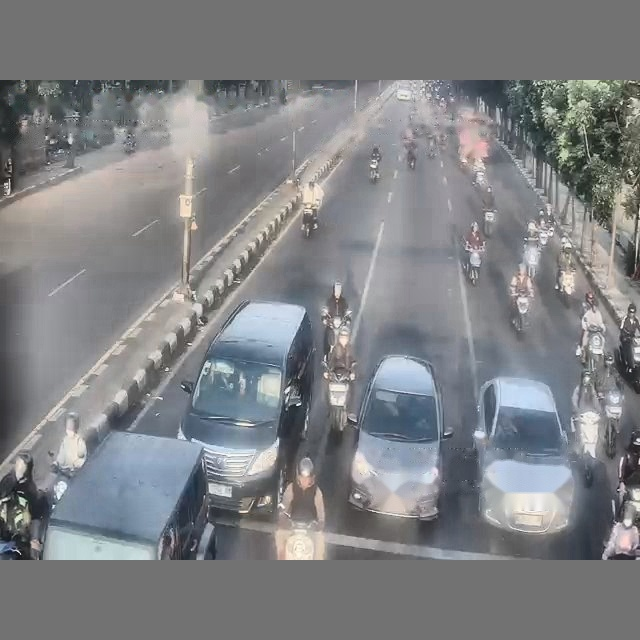Mobil: (178, 301, 314, 513), (43, 432, 215, 559), (348, 355, 452, 520), (473, 377, 574, 535), (396, 88, 411, 100)
Motor: (572, 411, 601, 486), (325, 363, 351, 434), (321, 307, 351, 360), (602, 388, 622, 458), (616, 336, 639, 392), (285, 520, 316, 560), (584, 325, 604, 371), (465, 243, 483, 285), (512, 294, 530, 333), (523, 243, 539, 279), (559, 269, 574, 305), (483, 209, 497, 237), (302, 206, 314, 238), (369, 158, 379, 183), (123, 136, 135, 154), (407, 151, 415, 169)
